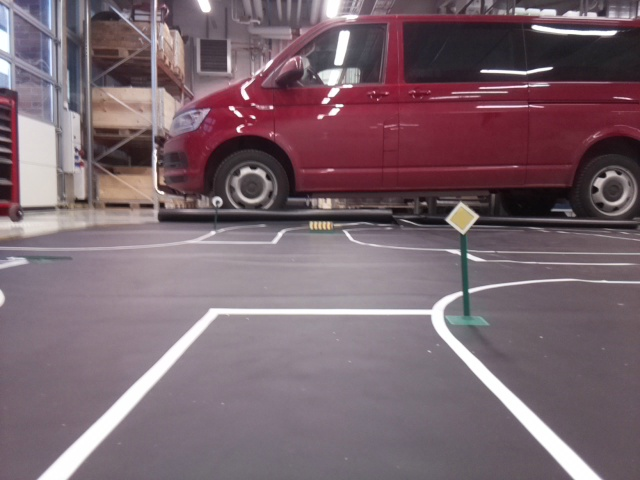Priority: (442, 201, 478, 235)
